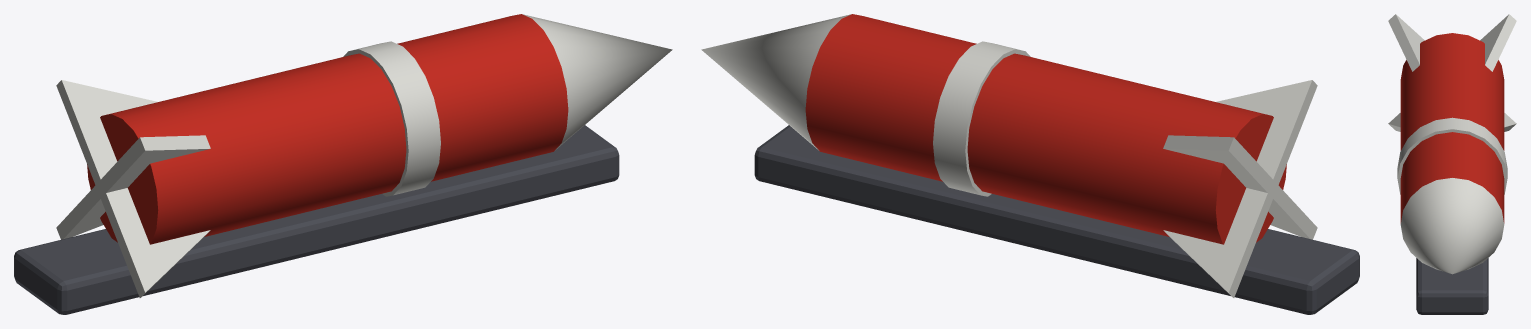
The model's file is nuke_rail.glb.
The picture shows the model from 3 angles, left to right: view 1: azimuth 30°, elevation 25°; view 2: azimuth 150°, elevation 25°; view 3: azimuth 270°, elevation 25°; orthographic projection. The views are drawn at different scales.
Parts seen in each view (by area): view 1: missile, rail, warhead, band, fin.001, fin.003, fin, fin.002; view 2: missile, rail, warhead, band, fin.002, fin, fin.003, fin.001; view 3: missile, warhead, rail, band, fin, fin.003, fin.001, fin.002.
Boxes of the visible parts, x1=… form: missile: x1=87, y1=14, x2=568, y2=244; rail: x1=14, y1=125, x2=619, y2=314; warhead: x1=522, y1=14, x2=672, y2=150; band: x1=343, y1=41, x2=440, y2=196; fin.001: x1=98, y1=188, x2=210, y2=297; fin.003: x1=56, y1=80, x2=157, y2=190; fin: x1=98, y1=135, x2=210, y2=195; fin.002: x1=56, y1=183, x2=105, y2=239; missile: x1=805, y1=14, x2=1286, y2=244; rail: x1=754, y1=125, x2=1359, y2=314; warhead: x1=701, y1=14, x2=851, y2=150; band: x1=933, y1=41, x2=1030, y2=196; fin.002: x1=1163, y1=188, x2=1275, y2=297; fin: x1=1216, y1=80, x2=1317, y2=191; fin.003: x1=1163, y1=135, x2=1275, y2=192; fin.001: x1=1268, y1=183, x2=1317, y2=239; missile: x1=1400, y1=33, x2=1504, y2=223; warhead: x1=1400, y1=178, x2=1504, y2=274; rail: x1=1416, y1=258, x2=1488, y2=314; band: x1=1397, y1=117, x2=1507, y2=194; fin: x1=1388, y1=14, x2=1424, y2=71; fin.003: x1=1480, y1=14, x2=1516, y2=71; fin.001: x1=1388, y1=113, x2=1400, y2=131; fin.002: x1=1504, y1=113, x2=1516, y2=131.
Bounding box in the file's own units: 11.8 × 3.13 × 2.86.
